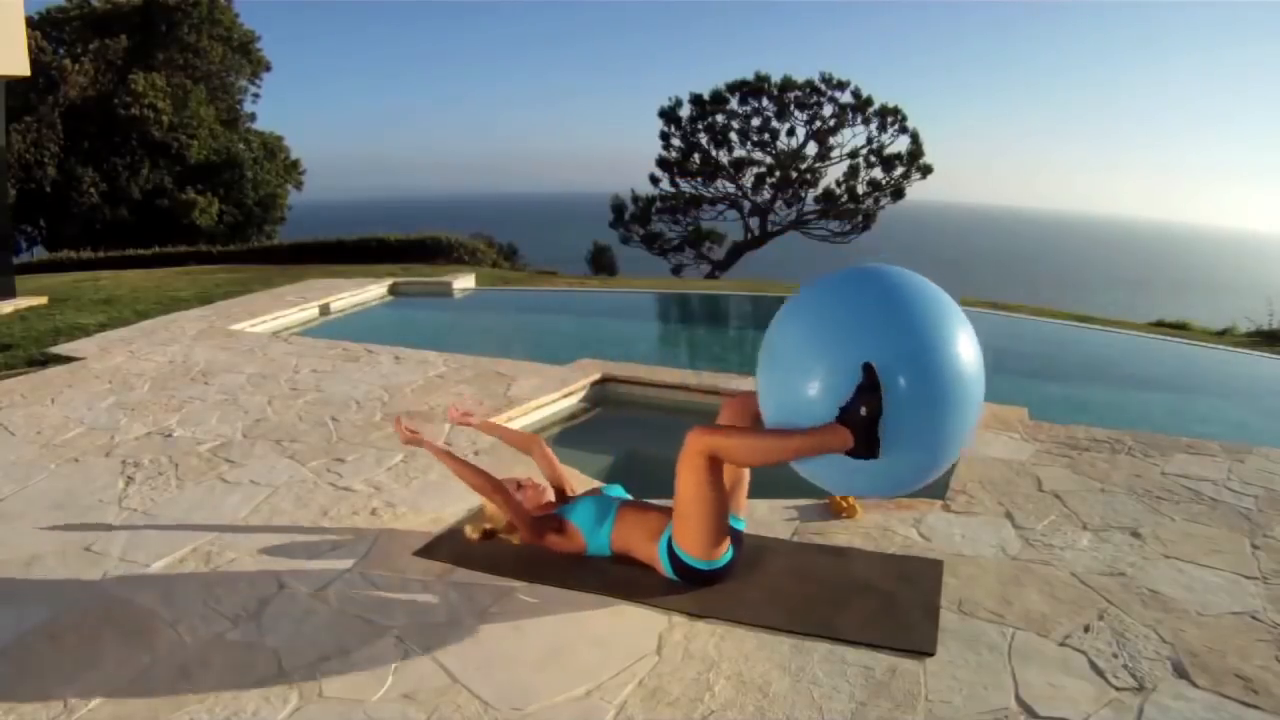yogaball: (751, 260, 992, 505)
